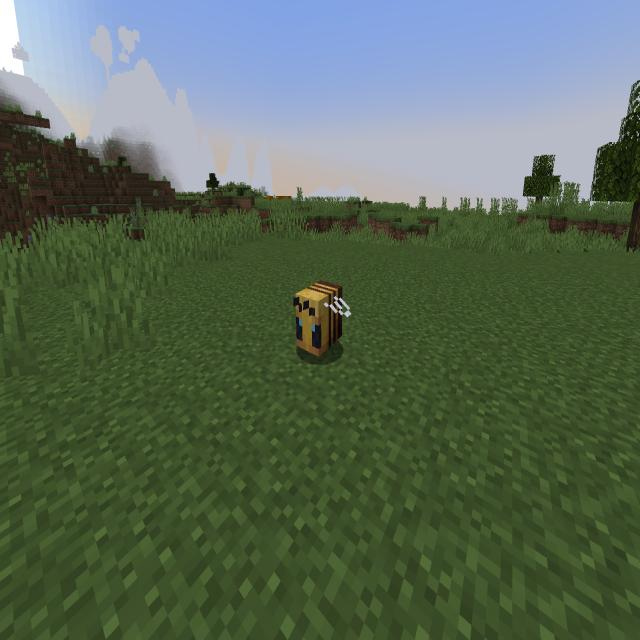bee: (288, 270, 356, 378)
